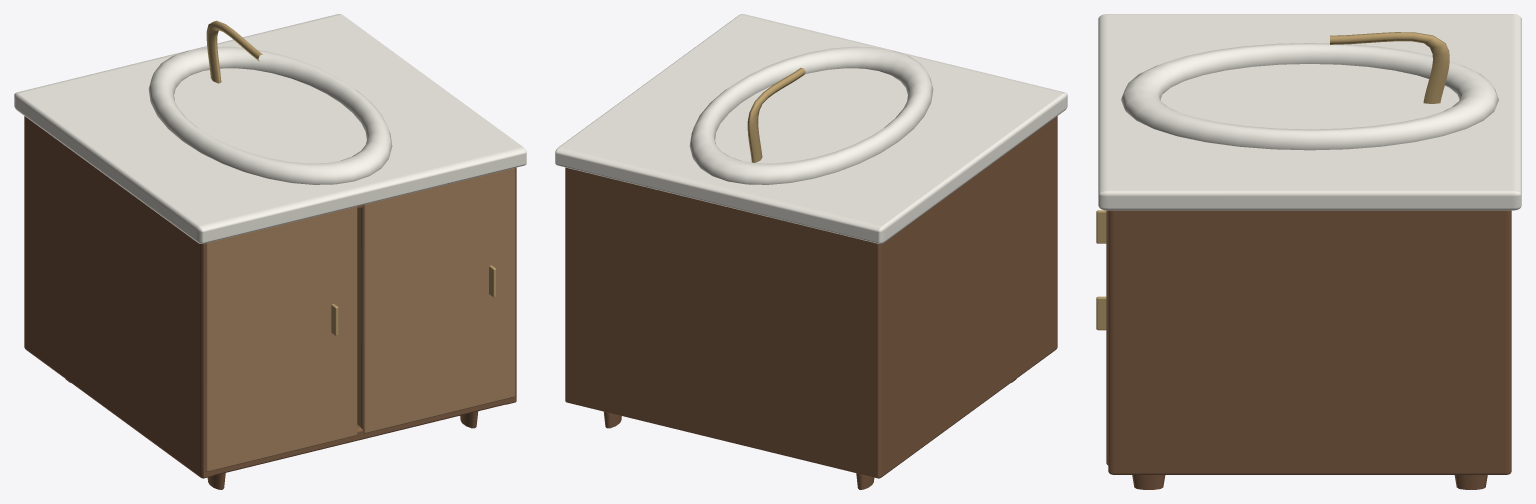
File: cabinet-3-5.glb
3 renders of one model, left to right at view 1: azimuth 30°, elevation 25°; view 2: azimuth 150°, elevation 25°; view 3: azimuth 270°, elevation 25°, orthographic. The views are drawn at different scales.
Visible parts, largest first — view 1: upholstery (×2), worktop, part; view 2: part, worktop, upholstery; view 3: part, worktop, upholstery (×2).
Part boxes in pixels (x1,y1,x2,y2): upholstery (×2): (205,20,514,472); worktop: (14,14,526,243); part: (24,116,516,489); part: (565,116,1057,489); worktop: (555,14,1067,243); upholstery: (747,68,805,162); part: (1108,210,1511,489); worktop: (1098,14,1521,210); upholstery (×2): (1096,32,1449,465).
Bounding box in the file's own units: 1 × 1 × 1.
